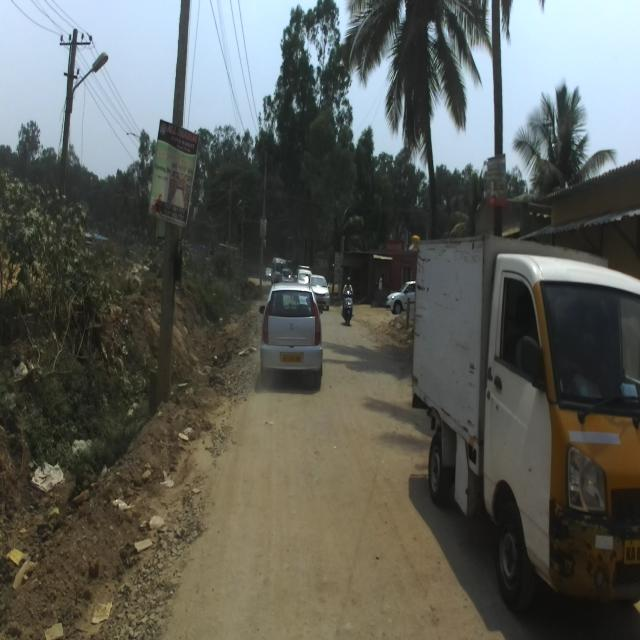car ahead at: (407, 232, 640, 603), (258, 277, 325, 394)
electric pole ahead at: (147, 0, 200, 403)
